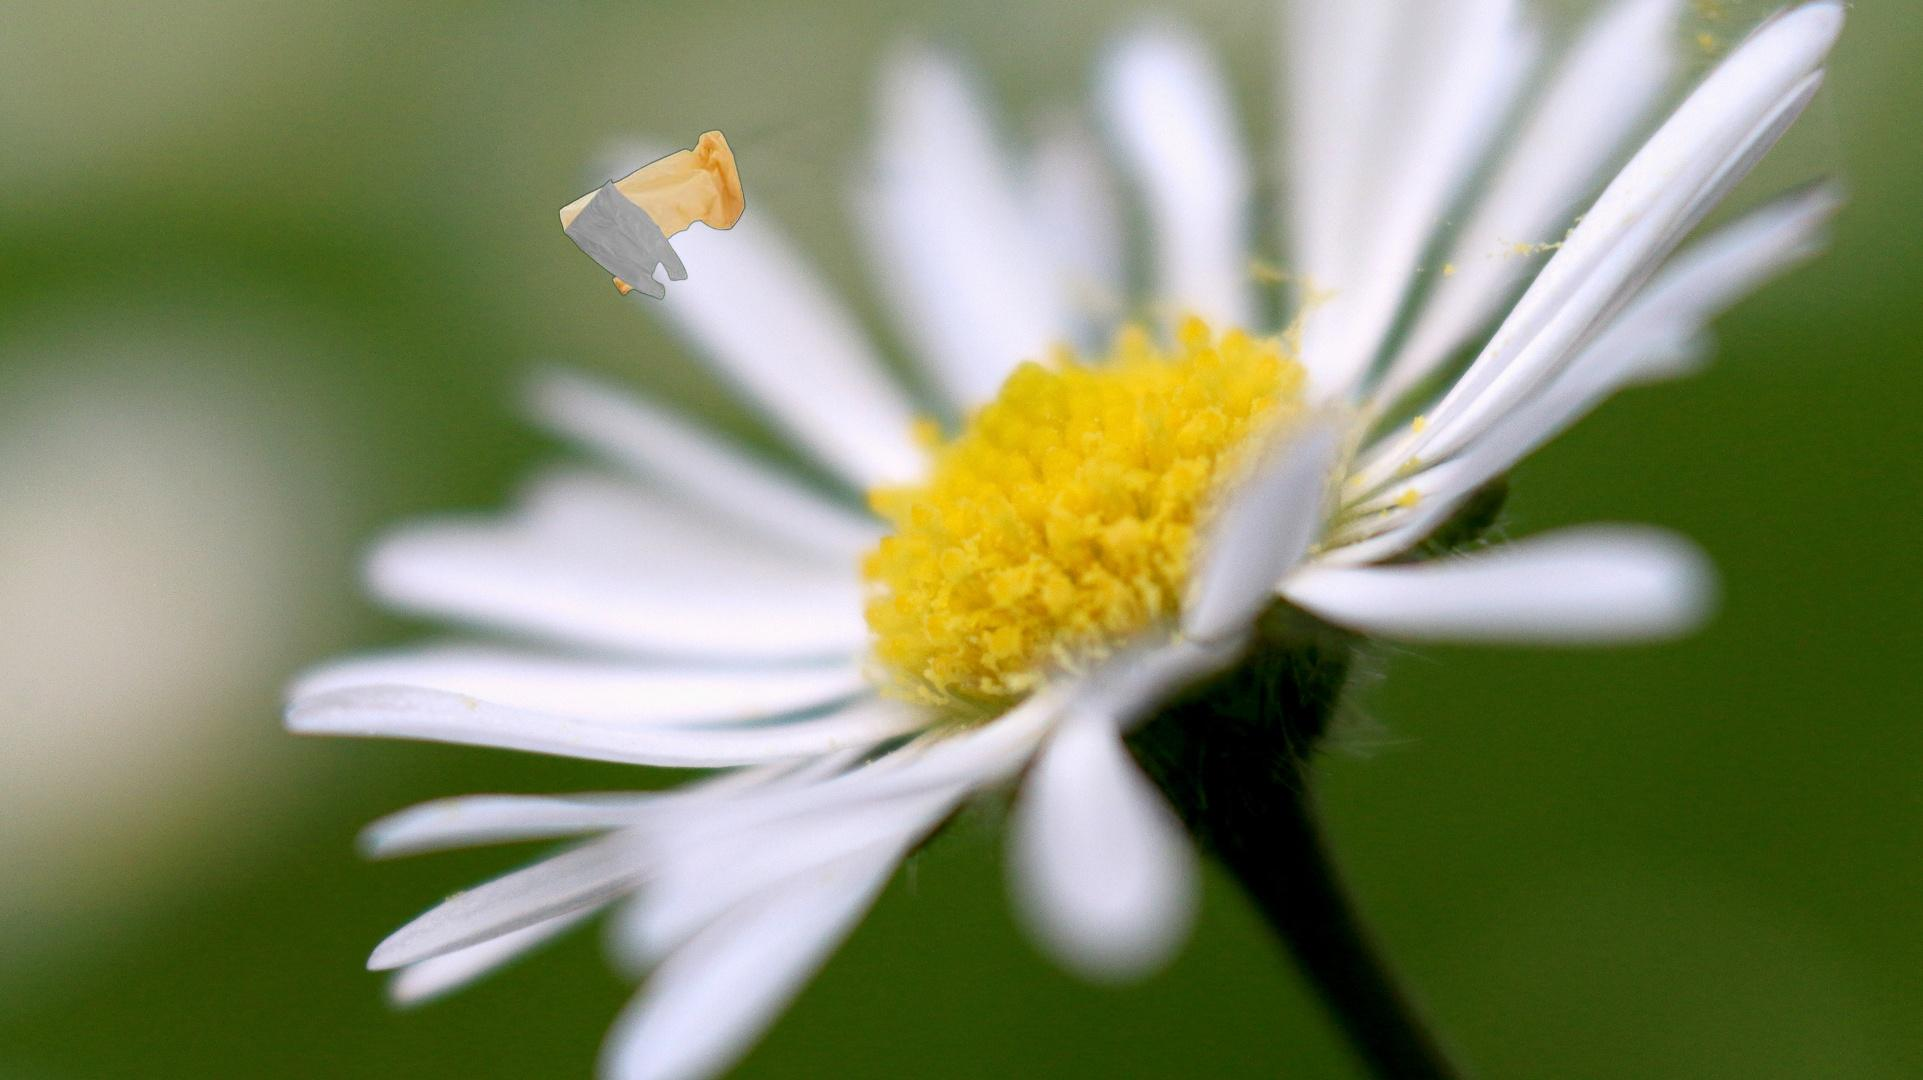plastic-bag: (557, 128, 748, 302)
